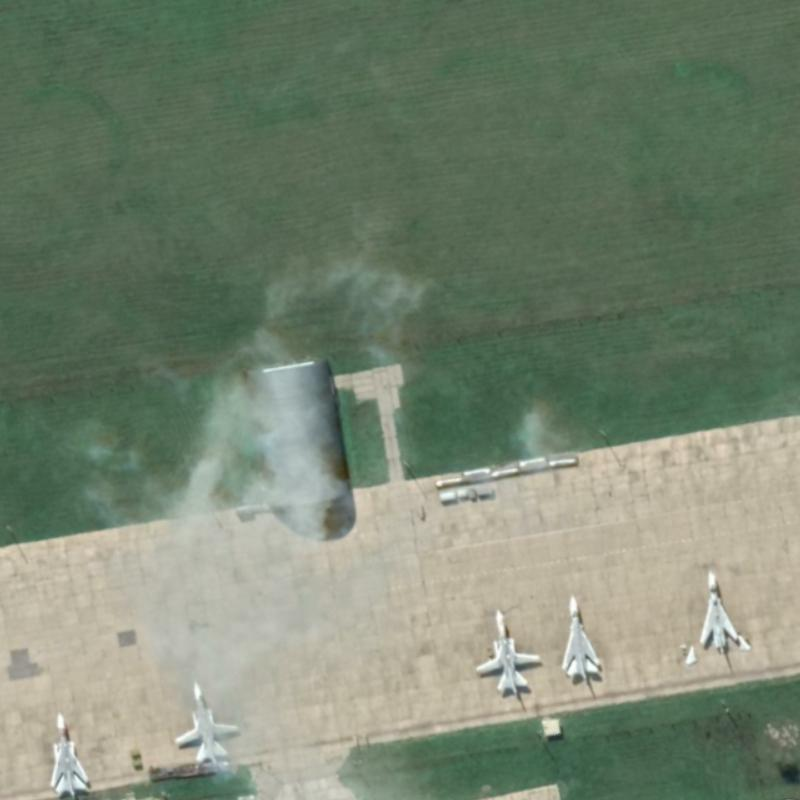A20: (472, 605, 542, 695), (170, 678, 239, 765), (46, 709, 91, 798), (557, 591, 601, 680), (696, 566, 740, 649)
